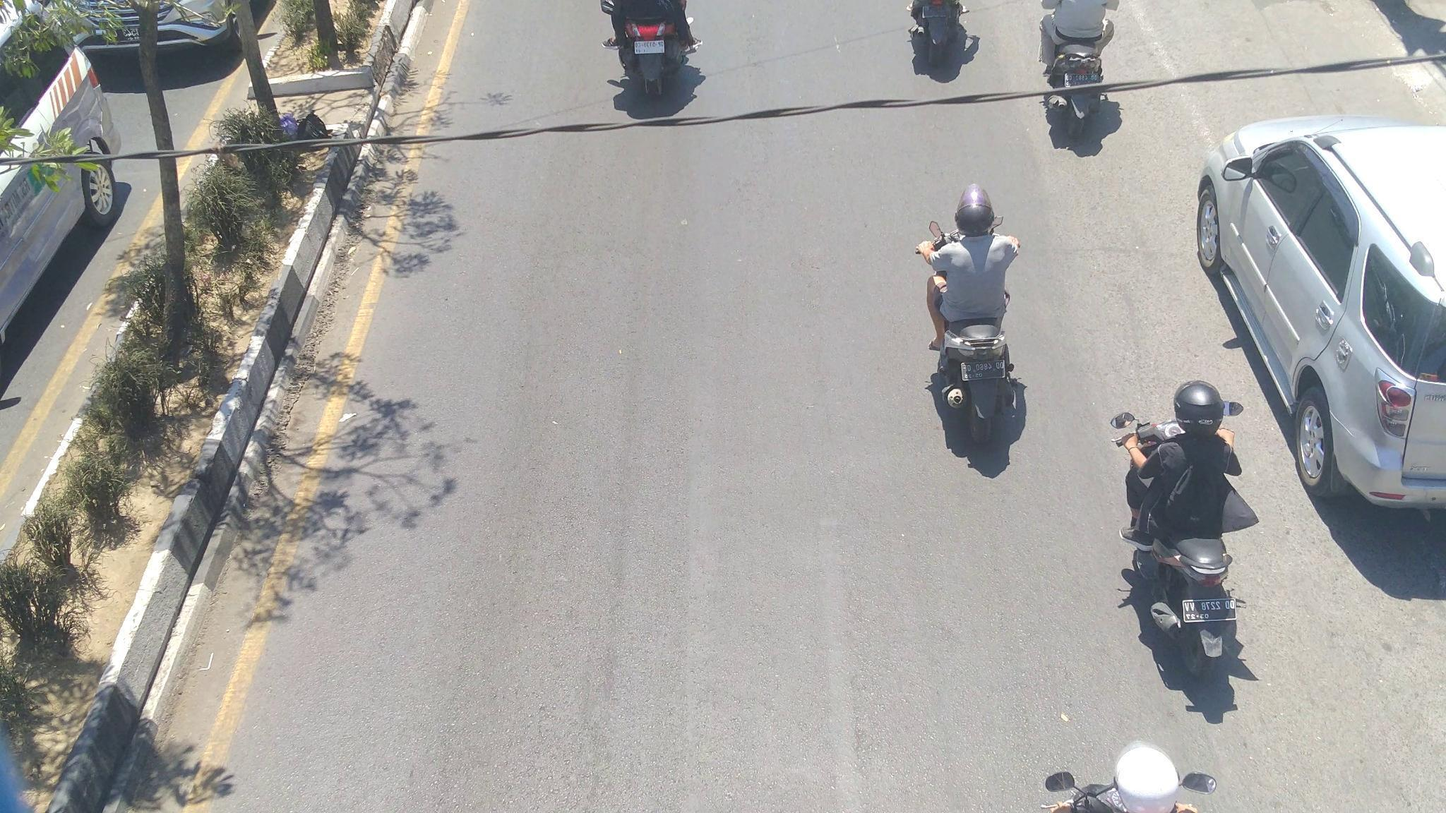Helmet: (1108, 738, 1189, 810), (1172, 375, 1227, 436), (949, 180, 1001, 239)
bike: (1108, 400, 1250, 682), (922, 214, 1021, 441), (1036, 2, 1118, 135), (599, 0, 703, 102)
number-plate: (1180, 596, 1239, 624), (957, 357, 1007, 385), (1064, 70, 1103, 92), (923, 3, 958, 21), (633, 39, 666, 57)
rider: (1124, 378, 1244, 550), (918, 179, 1019, 354)
